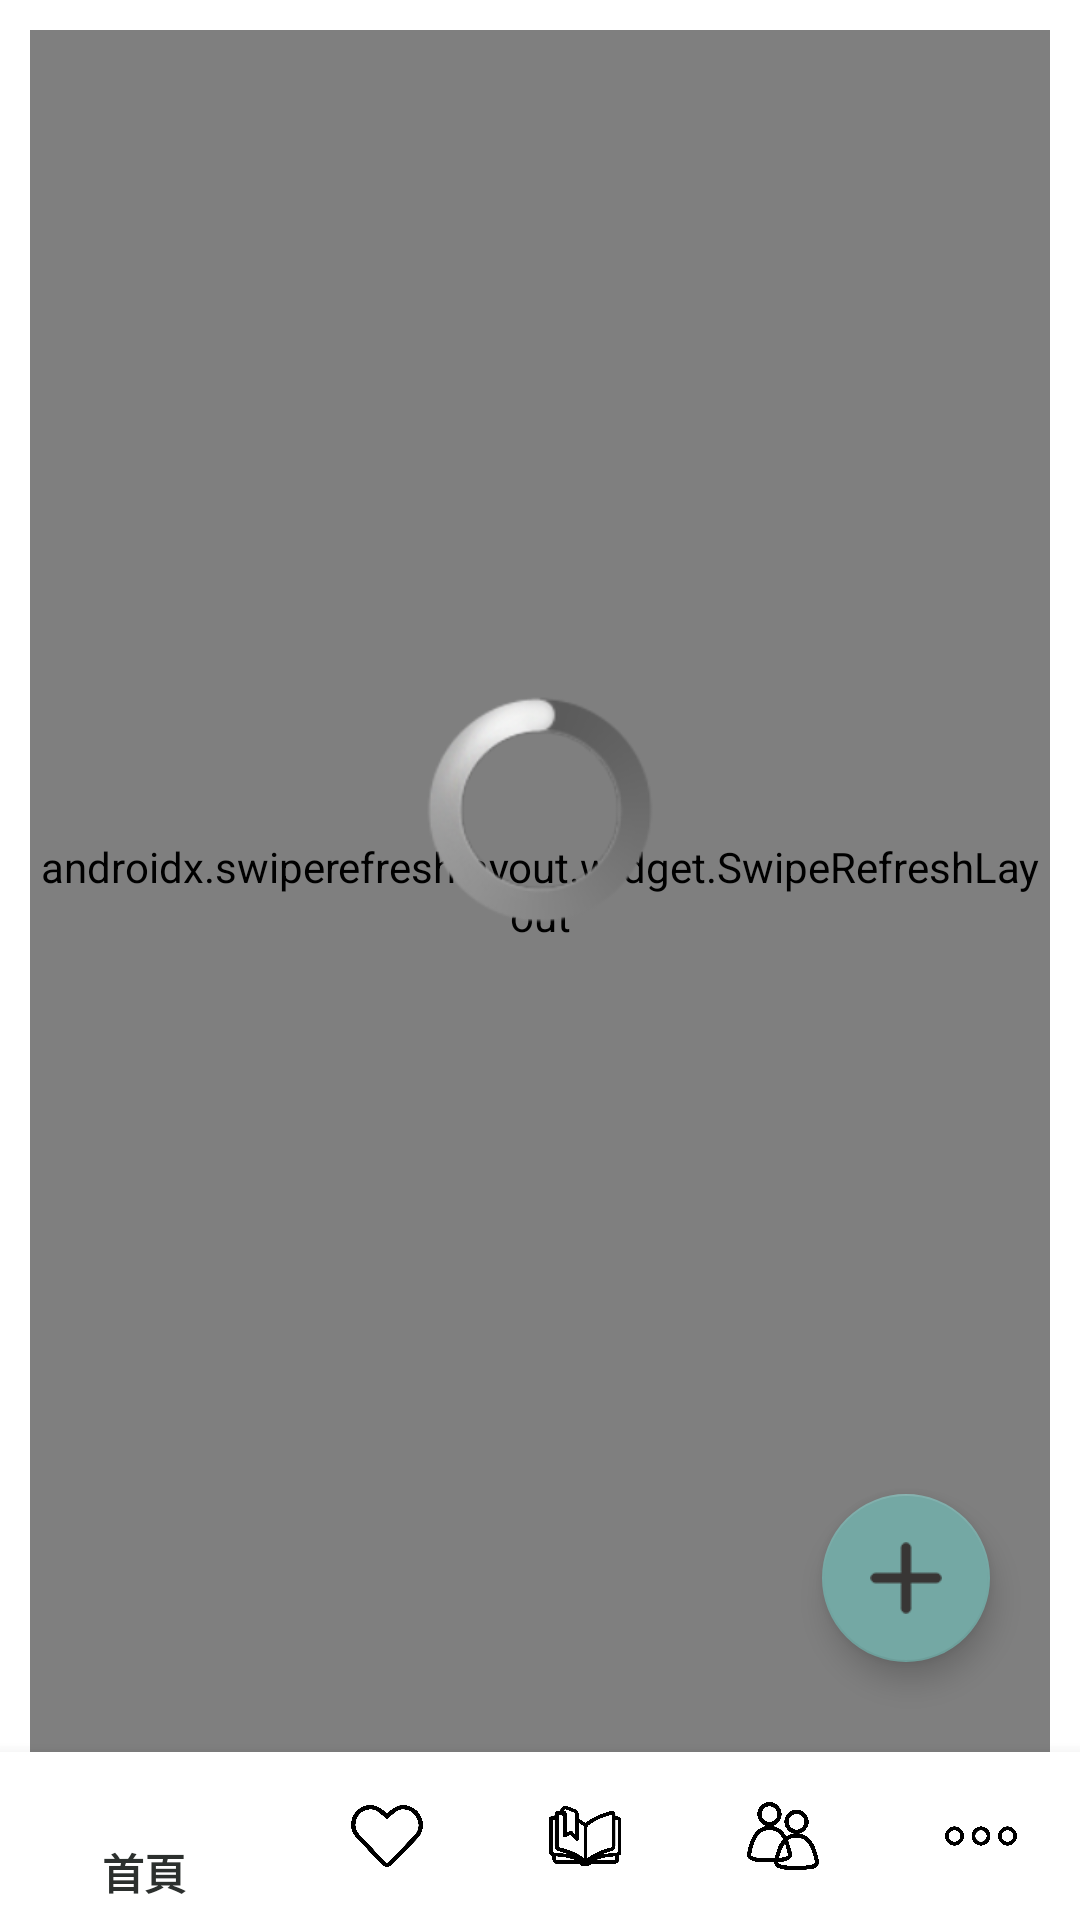

Icon click points for this 1080×1920 phone screenshot, format point (x, y):
add: point (906, 1578)
